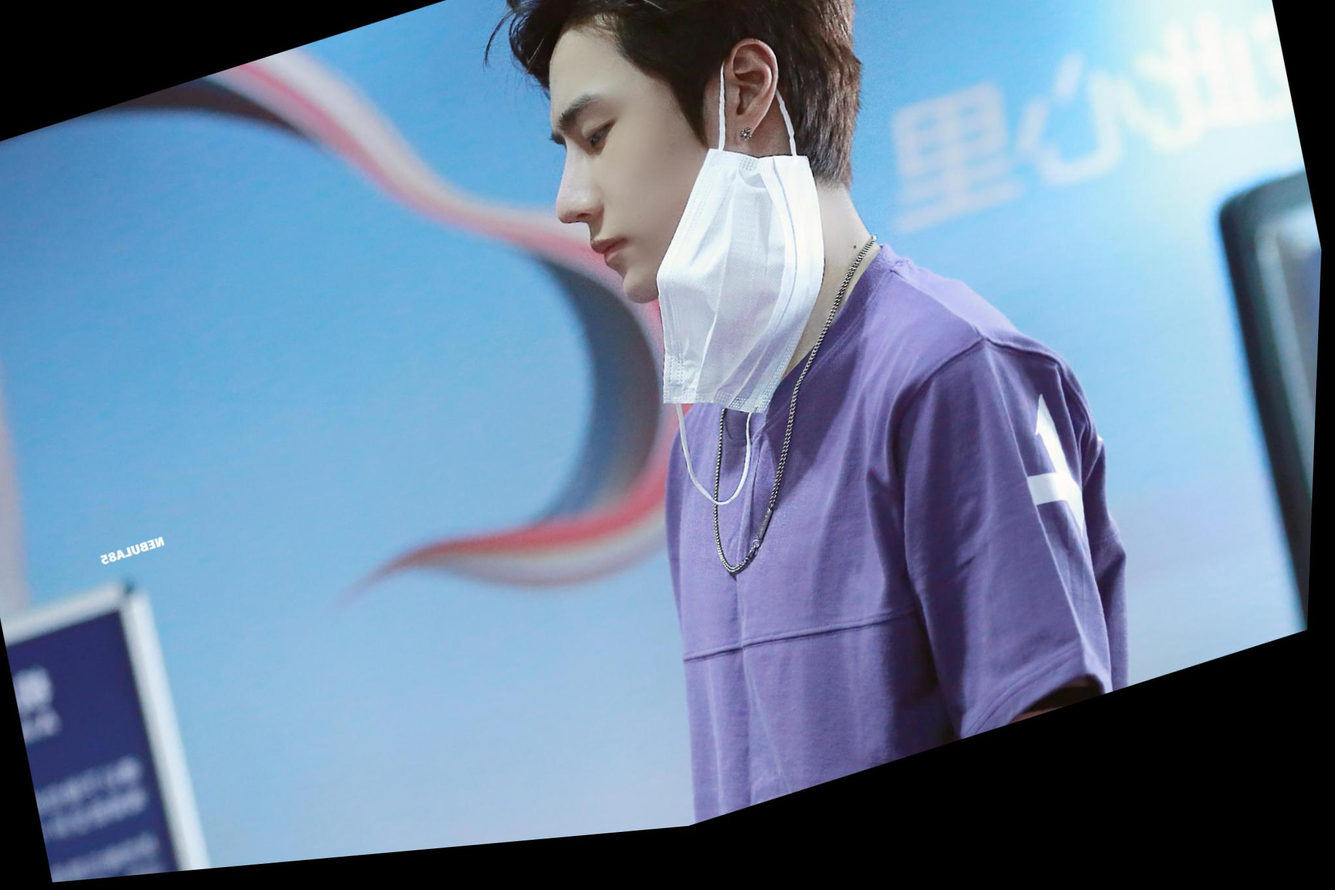WRONG: (524, 39, 745, 348)
